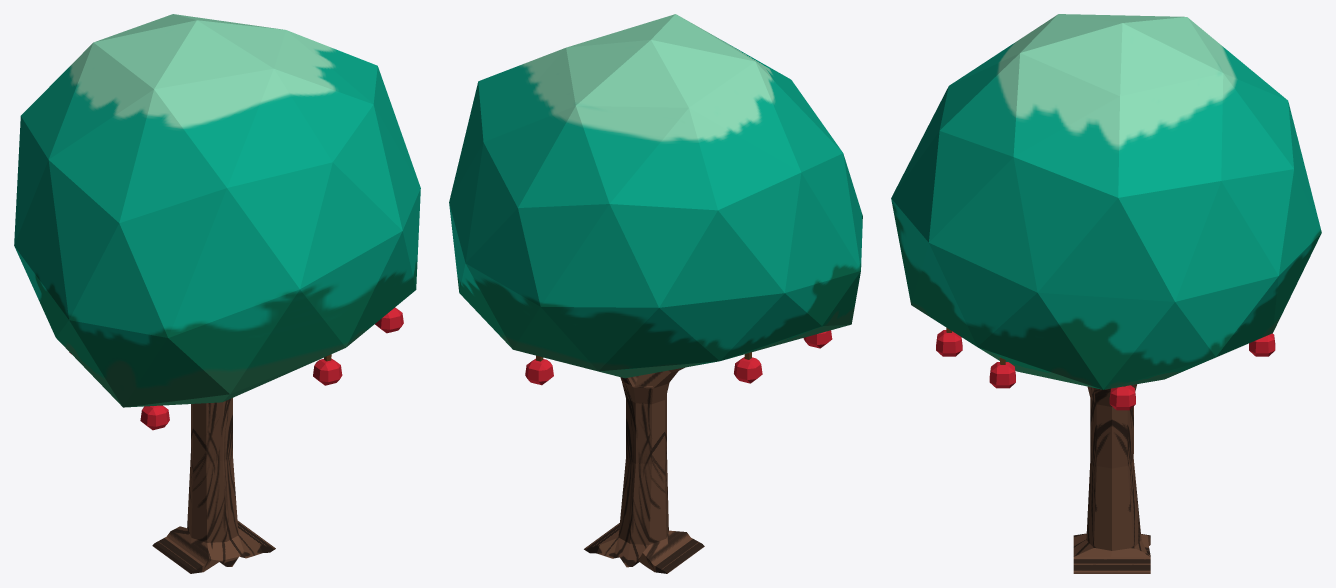
The model's file is arbol.fbx.
3 views of the same model, side by side, from view 1: azimuth 30°, elevation 25°; view 2: azimuth 150°, elevation 25°; view 3: azimuth 270°, elevation 25° (orthographic). The views are drawn at different scales.
Parts seen in each view (by area): view 1: Icosphere, Cylinder, Cube, Cube.003; view 2: Icosphere, Cylinder, Cube.002, Cube.001; view 3: Icosphere, Cylinder, Cube.004, Cube, Cube.005.
Part boxes in pixels (<box>): Icosphere: <box>14,14,420,407</box>; Cylinder: <box>152,398,275,573</box>; Cube: <box>313,354,342,385</box>; Cube.003: <box>140,405,169,430</box>; Icosphere: <box>449,14,862,378</box>; Cylinder: <box>584,367,704,573</box>; Cube.002: <box>734,352,762,383</box>; Cube.001: <box>525,355,553,385</box>; Icosphere: <box>891,14,1321,389</box>; Cylinder: <box>1073,384,1150,573</box>; Cube.004: <box>989,358,1015,388</box>; Cube: <box>936,327,962,356</box>; Cube.005: <box>1109,385,1135,410</box>.
Bounding box in the file's own units: 347 × 499 × 367.
